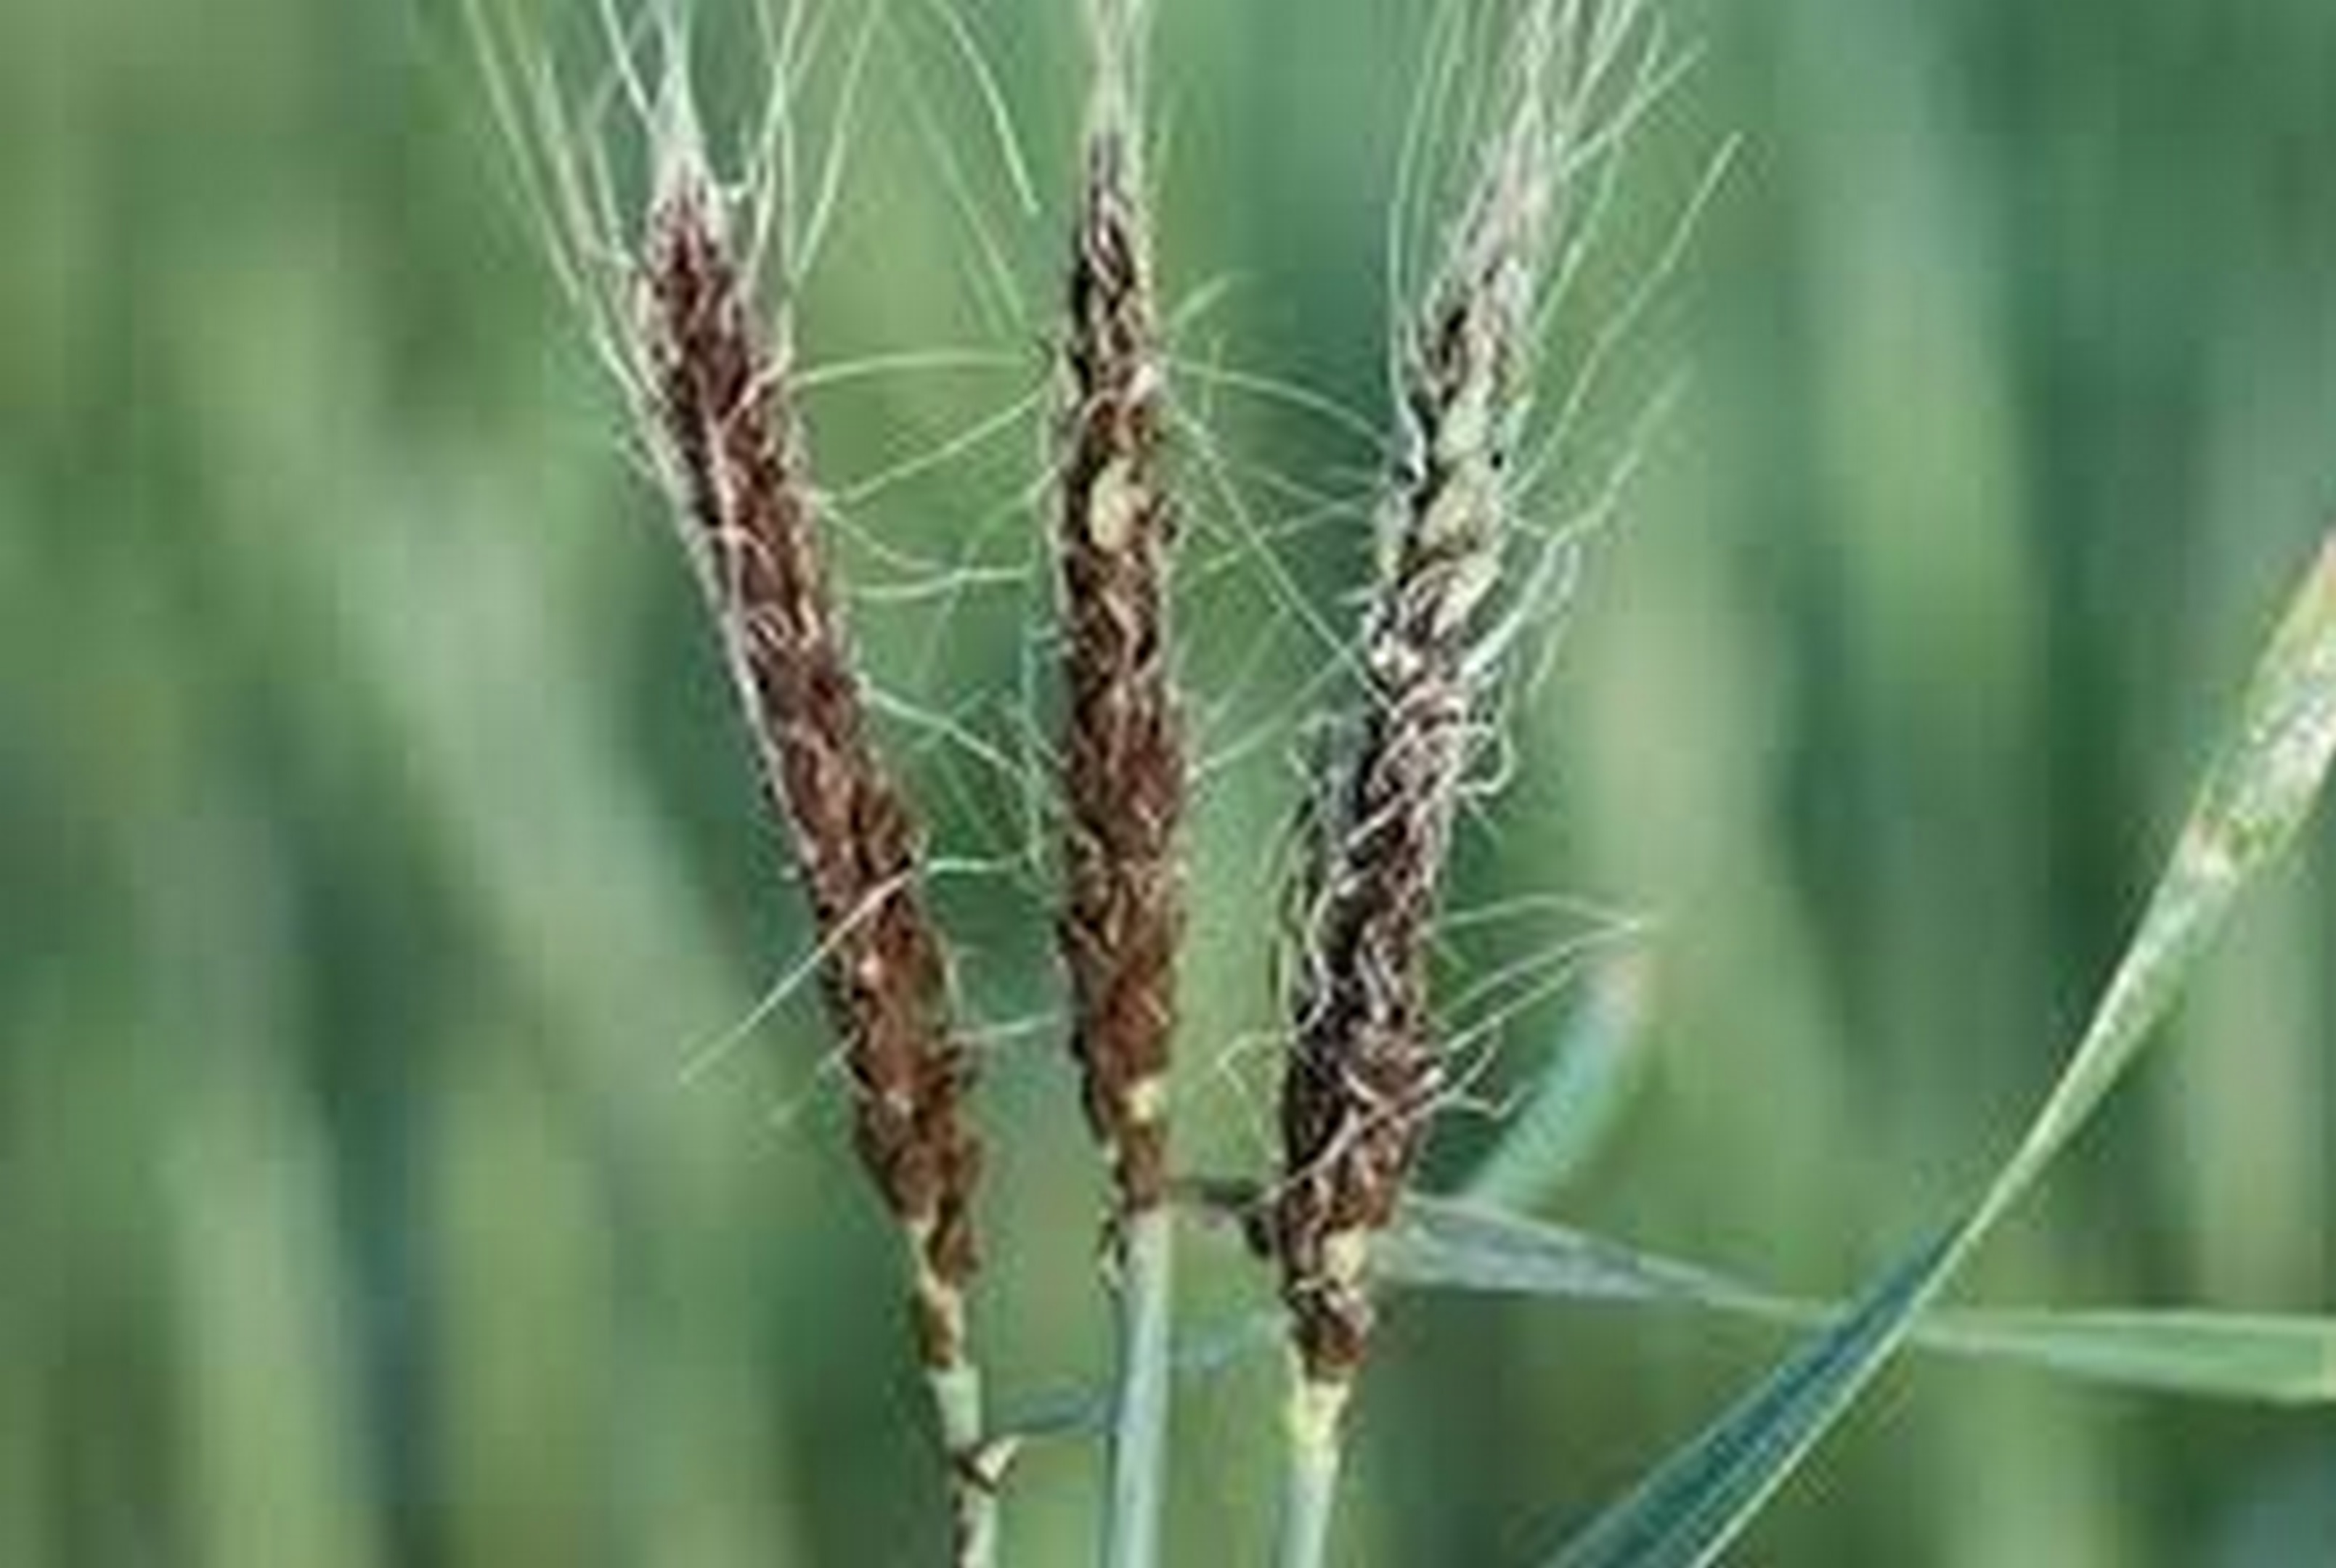Wheat Loose Smut: (562, 138, 1543, 1272)
